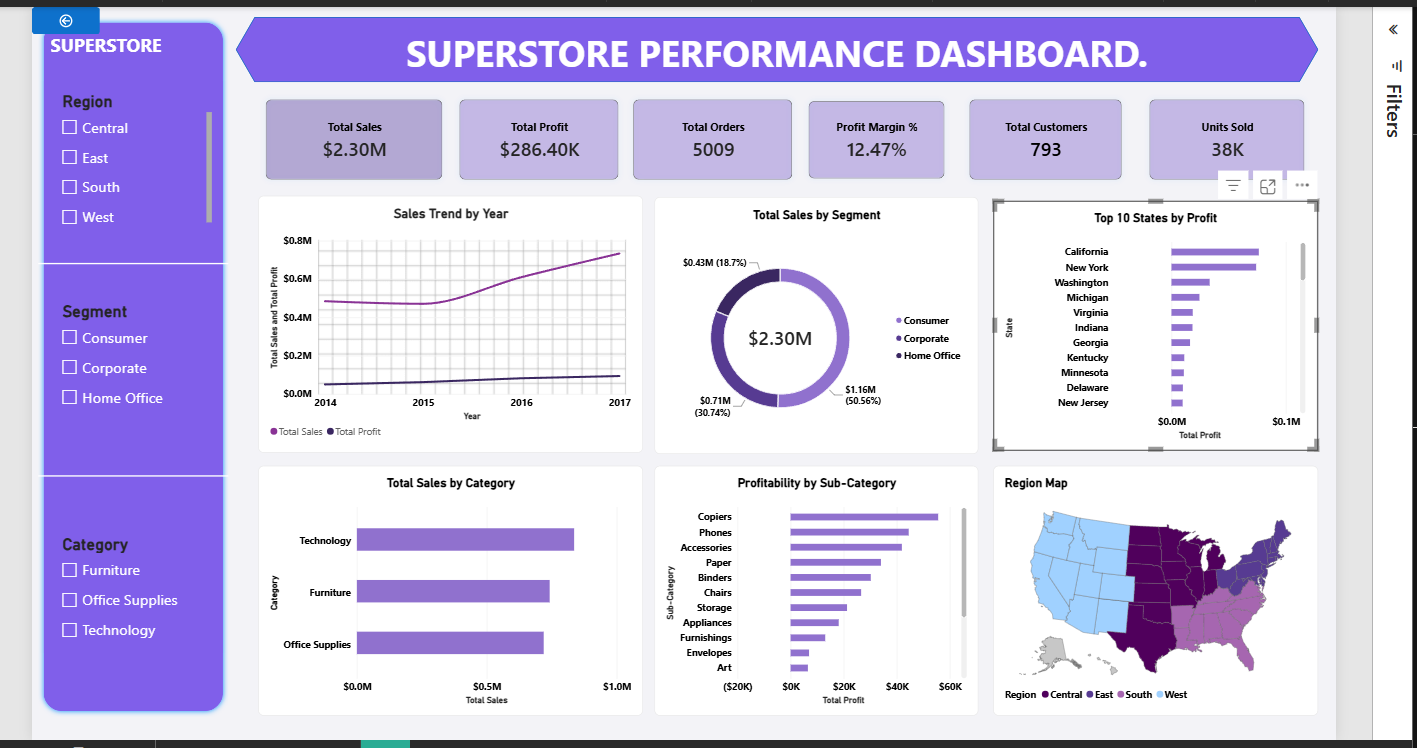

Layout of this report page (visuals, bound fields, positions):
{"tool":"powerbi","page":{"name":"Superstore_Dashboard","canvas":[1920,1080],"ordinal":0},"visuals":[{"type":"shape","box":[10,14,280,1030],"z":0},{"type":"slicer","fields":{"Values":["Sample - Superstore.Region"]},"box":[36,126,228,204],"z":1000},{"type":"slicer","fields":{"Values":["Sample - Superstore.Segment"]},"box":[36,434,228,242],"z":2000},{"type":"slicer","fields":{"Values":["Sample - Superstore.Category"]},"box":[36,776,228,244],"z":3000},{"type":"shape","box":[300,14,1594,96],"z":4000},{"type":"cardVisual","fields":{"Data":["Sample - Superstore.Total Profit"]},"box":[618,126,256,140],"z":5000},{"type":"cardVisual","fields":{"Data":["Sample - Superstore.Total Orders"]},"box":[874,126,256,140],"z":6000},{"type":"cardVisual","fields":{"Data":["Sample - Superstore.Profit Margin %"]},"box":[1130,126,226,140],"z":7000},{"type":"cardVisual","fields":{"Data":["Sample - Superstore.Total Sales"]},"box":[334,126,282,140],"z":8000},{"type":"lineChart","title":"Sales Trend by Year","fields":{"Category":["Sample - Superstore.Order Date.Variation.Date Hierarchy.Year"],"Y":["Sample - Superstore.Total Sales","Sample - Superstore.Total Profit"]},"box":[334,278,566,378],"z":9000},{"type":"clusteredBarChart","fields":{"Category":["Sample - Superstore.Category"],"Y":["Sample - Superstore.Total Sales"]},"box":[334,676,566,368],"z":10000},{"type":"donutChart","fields":{"Category":["Sample - Superstore.Segment"],"Y":["Sample - Superstore.Total Sales"]},"box":[916,280,476.7,378.3],"z":11000},{"type":"cardVisual","fields":{"Data":["Sample - Superstore.Total Customers"]},"box":[1370,126,246,140],"z":12000},{"type":"cardVisual","fields":{"Data":["Sample - Superstore.Units Sold"]},"box":[1634,126,250,140],"z":13000},{"type":"clusteredBarChart","title":"Profitability by Sub-Category","fields":{"Category":["Sample - Superstore.Sub-Category"],"Y":["Sample - Superstore.Total Profit"]},"box":[916,676,477,368],"z":14000},{"type":"clusteredBarChart","title":"Top 10 States by Profit","fields":{"Category":["Sample - Superstore.State"],"Y":["Sample - Superstore.Total Profit"]},"box":[1416,286,477,368],"z":15000},{"type":"shapeMap","title":"Region Map","fields":{"Category":["Sample - Superstore.State"],"Series":["Sample - Superstore.Region"],"Value":["Sample - Superstore.Total Sales"]},"box":[1416,676,478,368],"z":16000},{"type":"actionButton","box":[0,0,100,40],"z":17000},{"type":"shape","box":[10,372,280,12],"z":18000},{"type":"shape","box":[10,676,280,30],"z":19000}]}

Visuals, with their boxes on the page's 1920x1080 design canvas (x1, y1, x2, y2). These are canvas units, not pixel positions in the 1417x748 screenshot, which may show the page scaled, cropped or inside an application window:
shape: [x1=10, y1=14, x2=290, y2=1044]
slicer - Sample - Superstore.Region: [x1=36, y1=126, x2=264, y2=330]
slicer - Sample - Superstore.Segment: [x1=36, y1=434, x2=264, y2=676]
slicer - Sample - Superstore.Category: [x1=36, y1=776, x2=264, y2=1020]
shape: [x1=300, y1=14, x2=1894, y2=110]
cardVisual - Sample - Superstore.Total Profit: [x1=618, y1=126, x2=874, y2=266]
cardVisual - Sample - Superstore.Total Orders: [x1=874, y1=126, x2=1130, y2=266]
cardVisual - Sample - Superstore.Profit Margin %: [x1=1130, y1=126, x2=1356, y2=266]
cardVisual - Sample - Superstore.Total Sales: [x1=334, y1=126, x2=616, y2=266]
"Sales Trend by Year" lineChart: [x1=334, y1=278, x2=900, y2=656]
clusteredBarChart - Sample - Superstore.Category x Sample - Superstore.Total Sales: [x1=334, y1=676, x2=900, y2=1044]
donutChart - Sample - Superstore.Segment x Sample - Superstore.Total Sales: [x1=916, y1=280, x2=1393, y2=658]
cardVisual - Sample - Superstore.Total Customers: [x1=1370, y1=126, x2=1616, y2=266]
cardVisual - Sample - Superstore.Units Sold: [x1=1634, y1=126, x2=1884, y2=266]
"Profitability by Sub-Category" clusteredBarChart: [x1=916, y1=676, x2=1393, y2=1044]
"Top 10 States by Profit" clusteredBarChart: [x1=1416, y1=286, x2=1893, y2=654]
"Region Map" shapeMap: [x1=1416, y1=676, x2=1894, y2=1044]
actionButton: [x1=0, y1=0, x2=100, y2=40]
shape: [x1=10, y1=372, x2=290, y2=384]
shape: [x1=10, y1=676, x2=290, y2=706]
